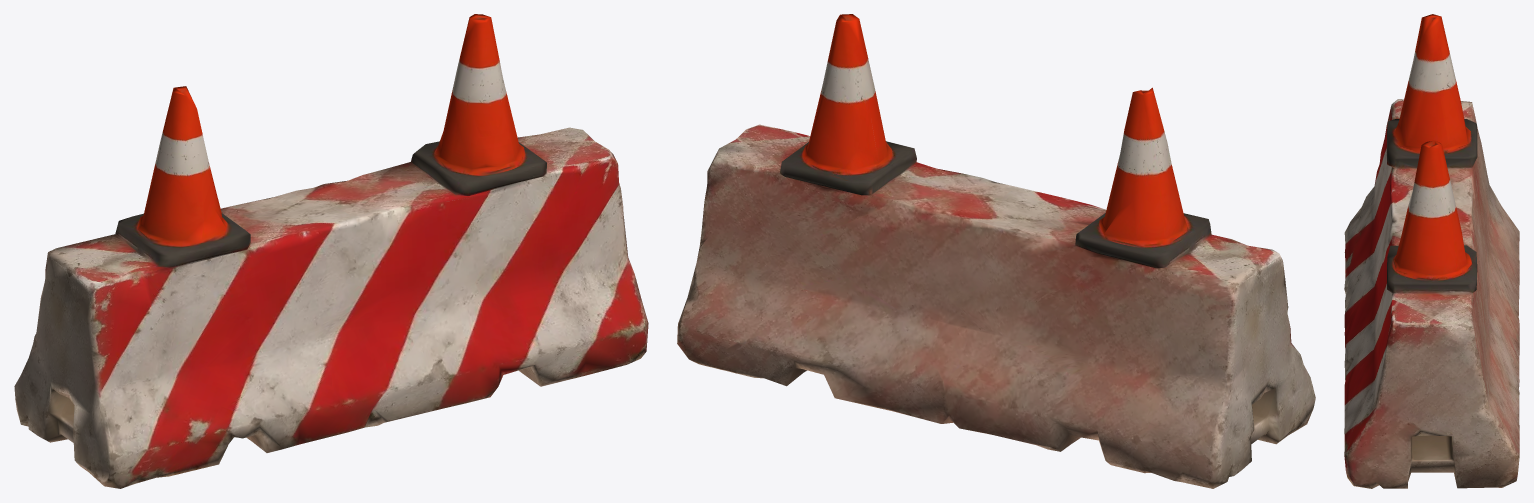
The model's file is barrier-low.glb.
3 renders of one model, left to right at view 1: azimuth 30°, elevation 25°; view 2: azimuth 150°, elevation 25°; view 3: azimuth 270°, elevation 25°, orthographic. The views are drawn at different scales.
Parts seen in each view (by area): view 1: tripo_node_c50378ba-51e4-4977-807f-8f7ad8e83f59; view 2: tripo_node_c50378ba-51e4-4977-807f-8f7ad8e83f59; view 3: tripo_node_c50378ba-51e4-4977-807f-8f7ad8e83f59.
Boxes of the visible parts, x1,y1,x2,y2 form: tripo_node_c50378ba-51e4-4977-807f-8f7ad8e83f59: [14, 14, 648, 488]; tripo_node_c50378ba-51e4-4977-807f-8f7ad8e83f59: [677, 14, 1315, 488]; tripo_node_c50378ba-51e4-4977-807f-8f7ad8e83f59: [1344, 14, 1519, 488].
Size of the model in its own units: 1 by 0.5937 by 0.3218.
1 material, 1 textured.
